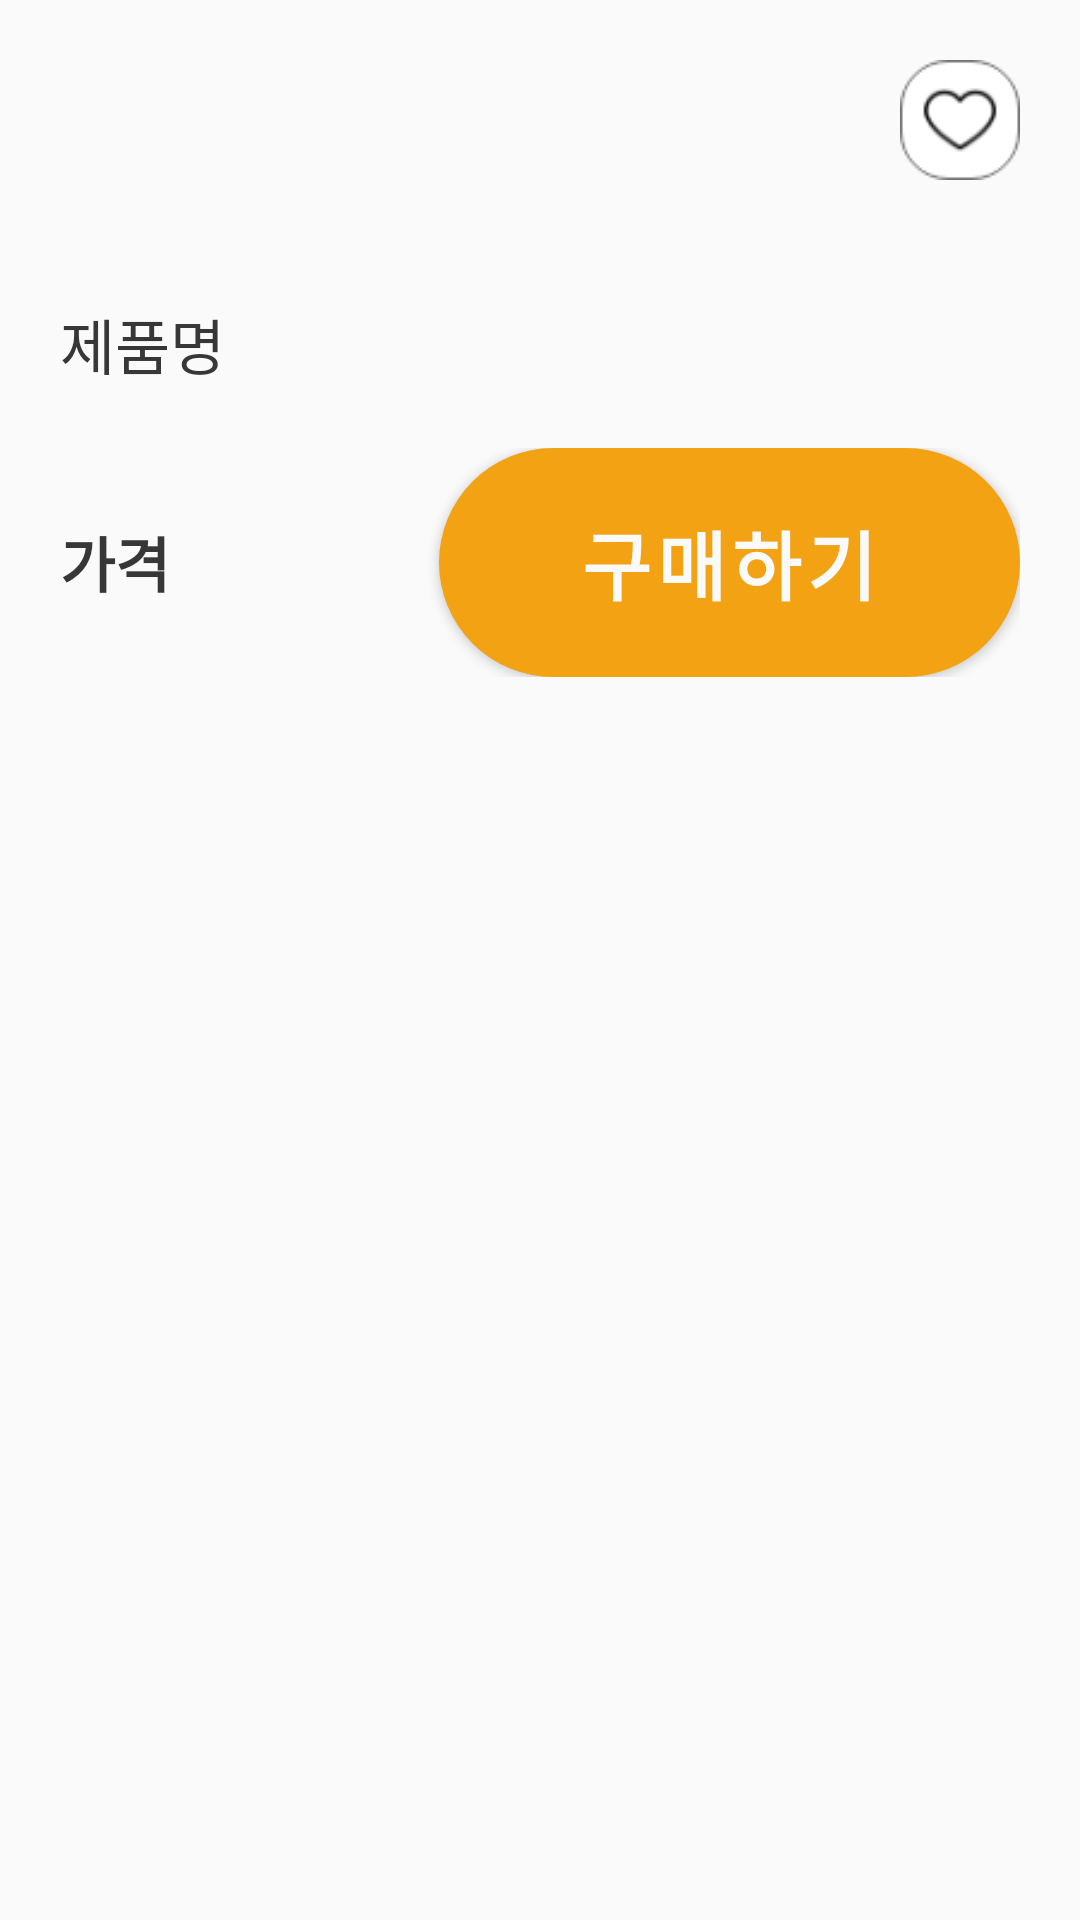

Icons on this 1080x1920 Android screen, each with its box as (x1, y1, x2, y2):
save: (900, 60, 1020, 180)
